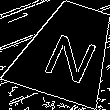N_N: (35, 20, 101, 82)
